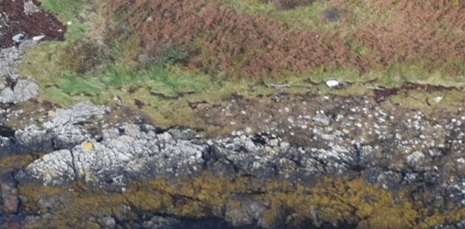white_in_green: (309, 66, 356, 98)
